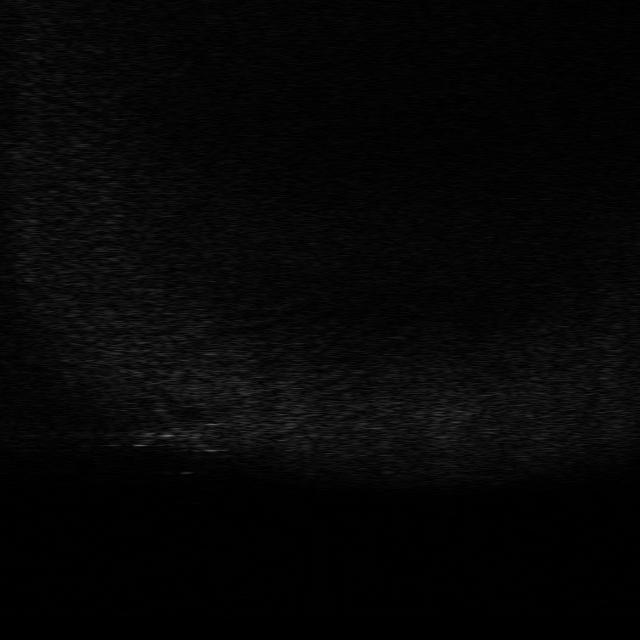plane: (125, 405, 231, 455)
